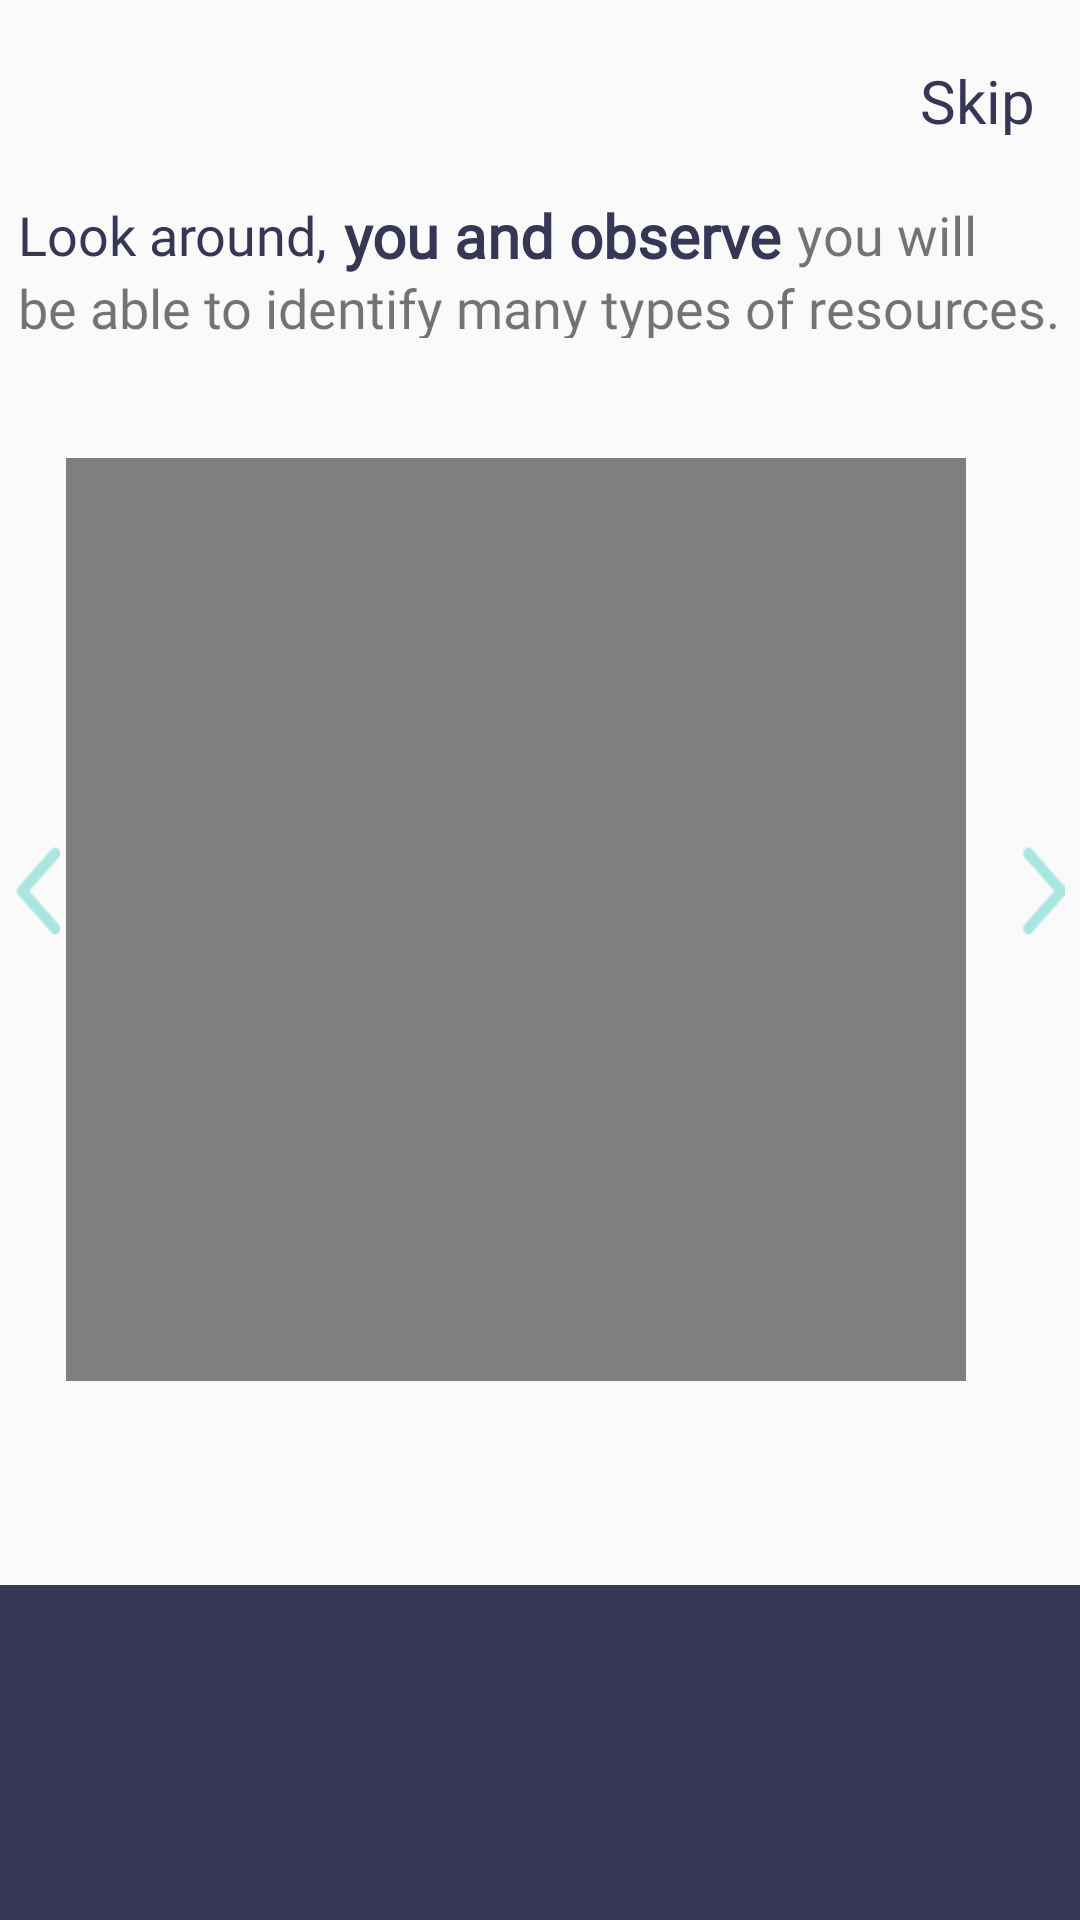

Icons on this 1080x1920 Android screen, each with the point to tap as (x=x, y=y):
arrowleft: (x=38, y=890)
arrowright: (x=1044, y=890)
